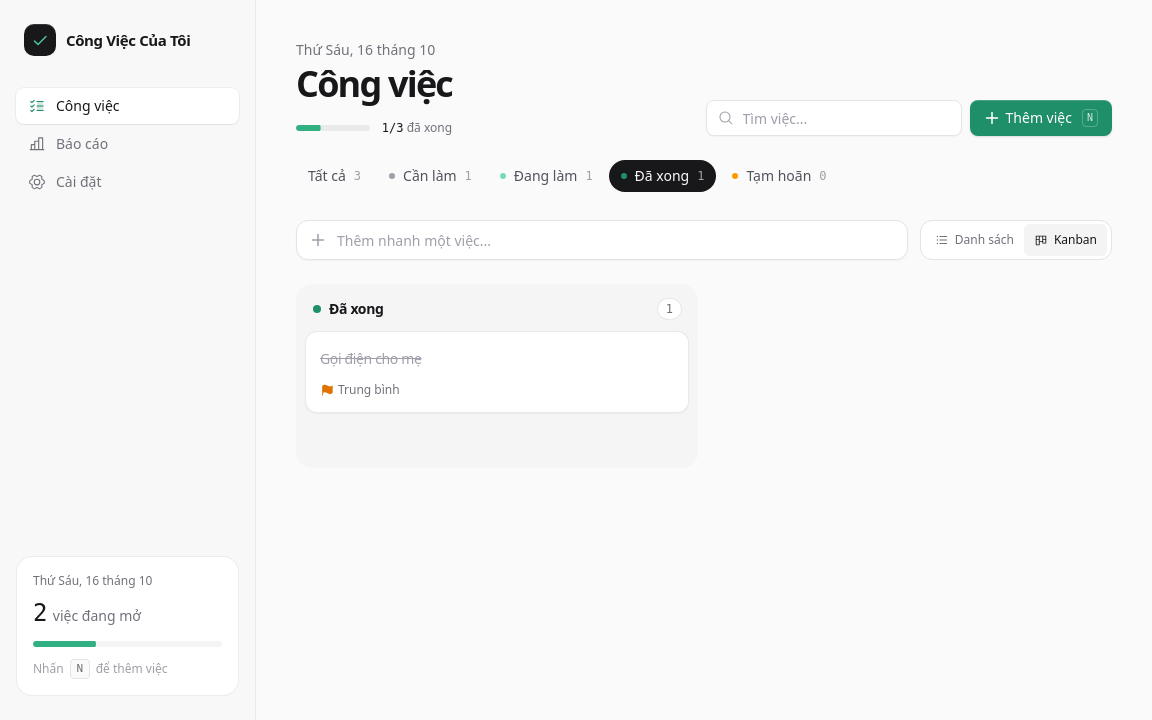
Test case: Kanban › bộ lọc trạng thái ẩn các cột khác; tìm kiếm lọc thẻ
The width and height of the screenshot is (1152, 720).
Expected: the button "Gọi điện cho mẹ" is shown, [320,349,422,368]
Click the button "Tất cả 3": (334,176) [296,160,373,192]
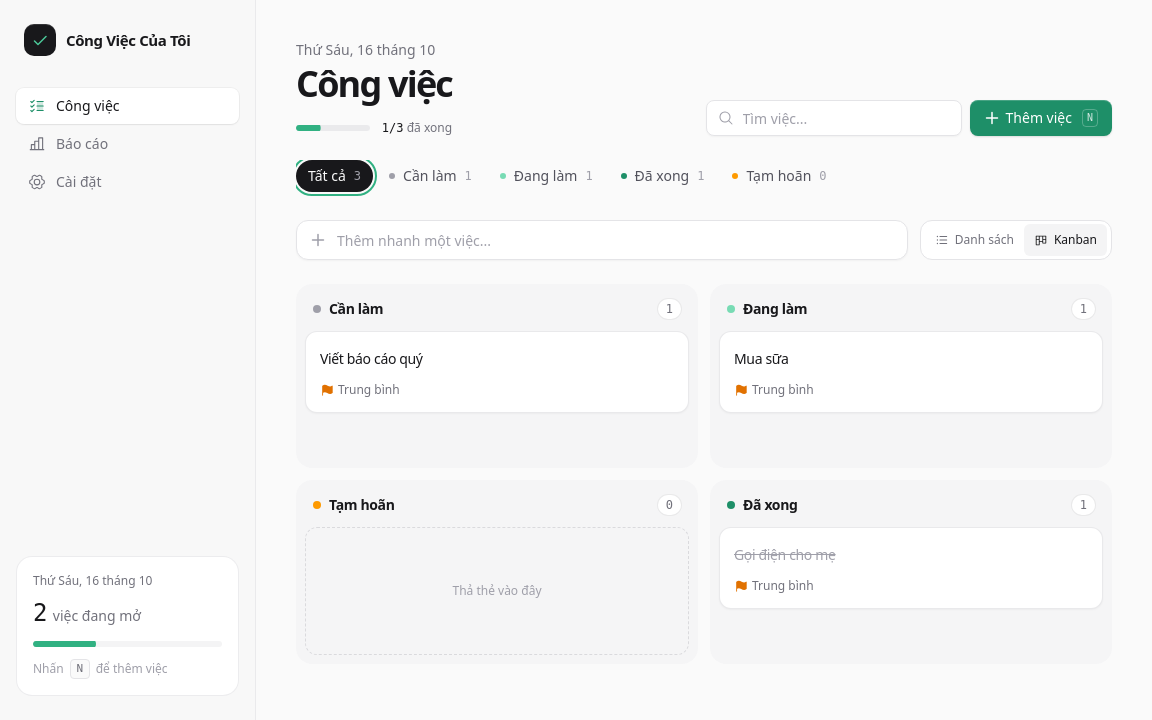
In the search field named "Tìm công việc": (834,118) [706,100,962,136], type "sua"
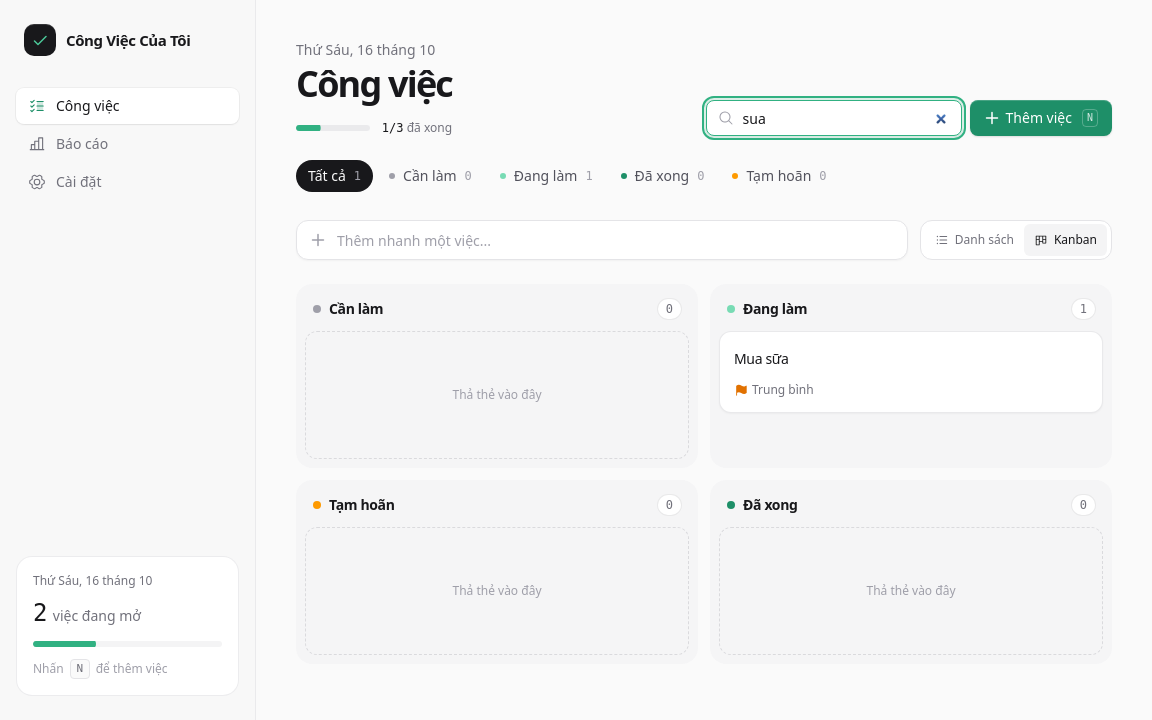
Result: the button "Mua sữa" is shown at [734,349,788,368]
Result: the button "Viết báo cáo quý" is gone
